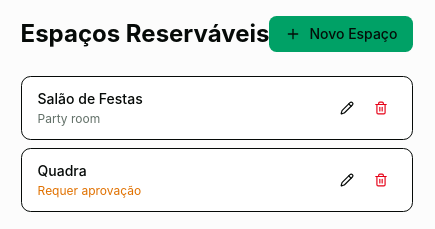
Test: ReservableSpacesPage › dismisses delete confirm when X is clicked
What coordinates should you click on to do the following:
click the button with class "lucide-trash-2"
I would click on:
 (381, 108)
Its box is [366,92,396,124].
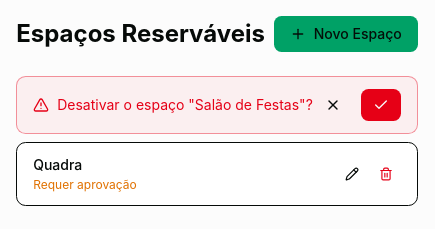
What coordinates should you click on to do the following:
click the button with class "lucide-x"
I would click on:
 (333, 105)
Its box is [313,89,353,121].
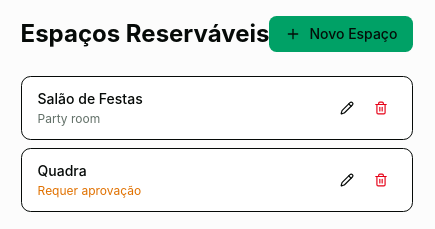
Check: the text "Desativar o espaço" is gone
